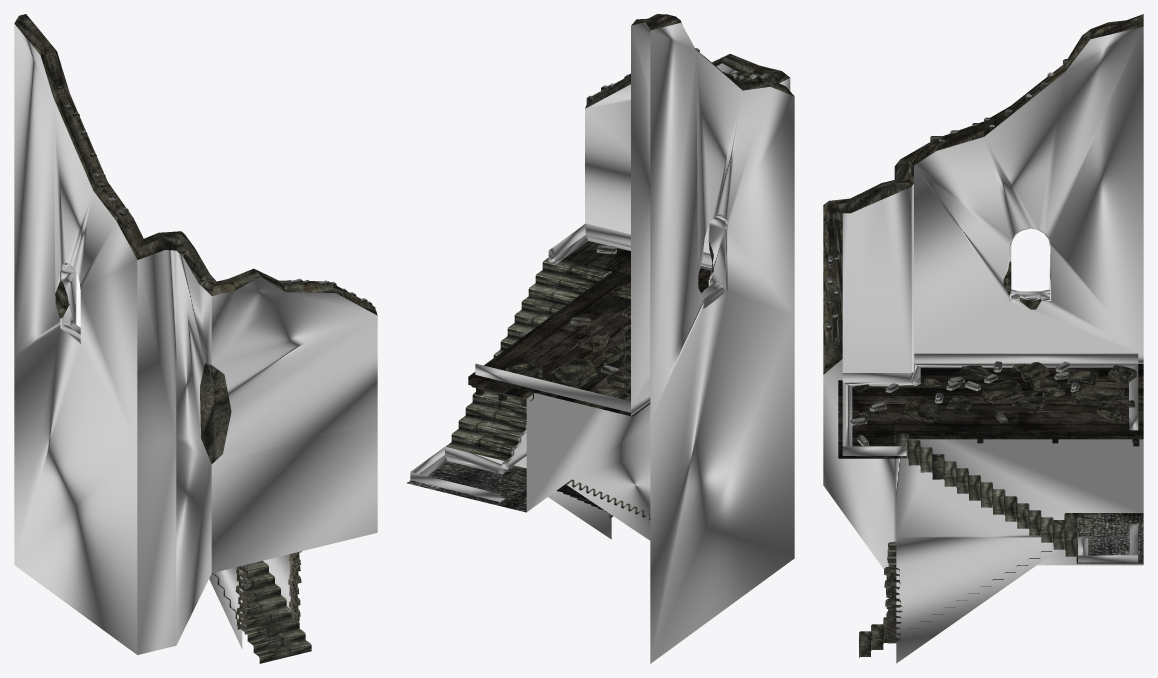
3 views of the same model, side by side, from view 1: azimuth 30°, elevation 25°; view 2: azimuth 150°, elevation 25°; view 3: azimuth 270°, elevation 25° (orthographic). The views are drawn at different scales.
Visible parts, largest first — view 1: mesh0, mesh6, mesh7, mesh1, mesh12, mesh10; view 2: mesh0, mesh1, mesh3, mesh5, mesh8, mesh9, mesh2, mesh6, mesh7; view 3: mesh0, mesh1, mesh3, mesh6, mesh8, mesh9, mesh5, mesh2, mesh4, mesh11, mesh12, mesh7 (+1 smaller).
Part boxes in pixels (x1,y1,x2,y2): mesh0: (14, 24, 377, 654); mesh6: (14, 14, 377, 463); mesh7: (212, 561, 311, 663); mesh1: (209, 554, 290, 648); mesh12: (235, 551, 301, 634); mesh10: (57, 86, 372, 305); mesh0: (585, 22, 794, 663); mesh1: (506, 271, 650, 540); mesh3: (469, 241, 710, 416); mesh5: (445, 257, 609, 460); mesh8: (410, 223, 711, 501); mesh9: (506, 284, 630, 401); mesh2: (407, 461, 526, 512); mesh6: (585, 14, 793, 293); mesh7: (508, 465, 650, 519); mesh0: (823, 26, 1143, 569); mesh1: (896, 439, 1143, 663); mesh3: (838, 364, 1143, 458); mesh6: (823, 14, 1143, 374); mesh8: (842, 353, 1138, 562); mesh9: (853, 362, 1136, 422); mesh5: (896, 433, 1077, 556); mesh2: (1076, 513, 1143, 563); mesh4: (896, 432, 1143, 439); mesh11: (850, 361, 1079, 446); mesh12: (884, 412, 1007, 643); mesh7: (859, 513, 1076, 657).
Size of the model in its own units: 6.3 by 16.42 by 8.29.
